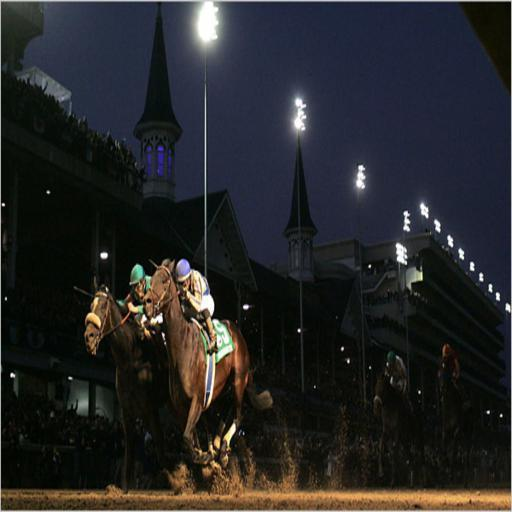horse: (142, 260, 274, 482), (80, 279, 172, 490), (368, 373, 414, 480)
